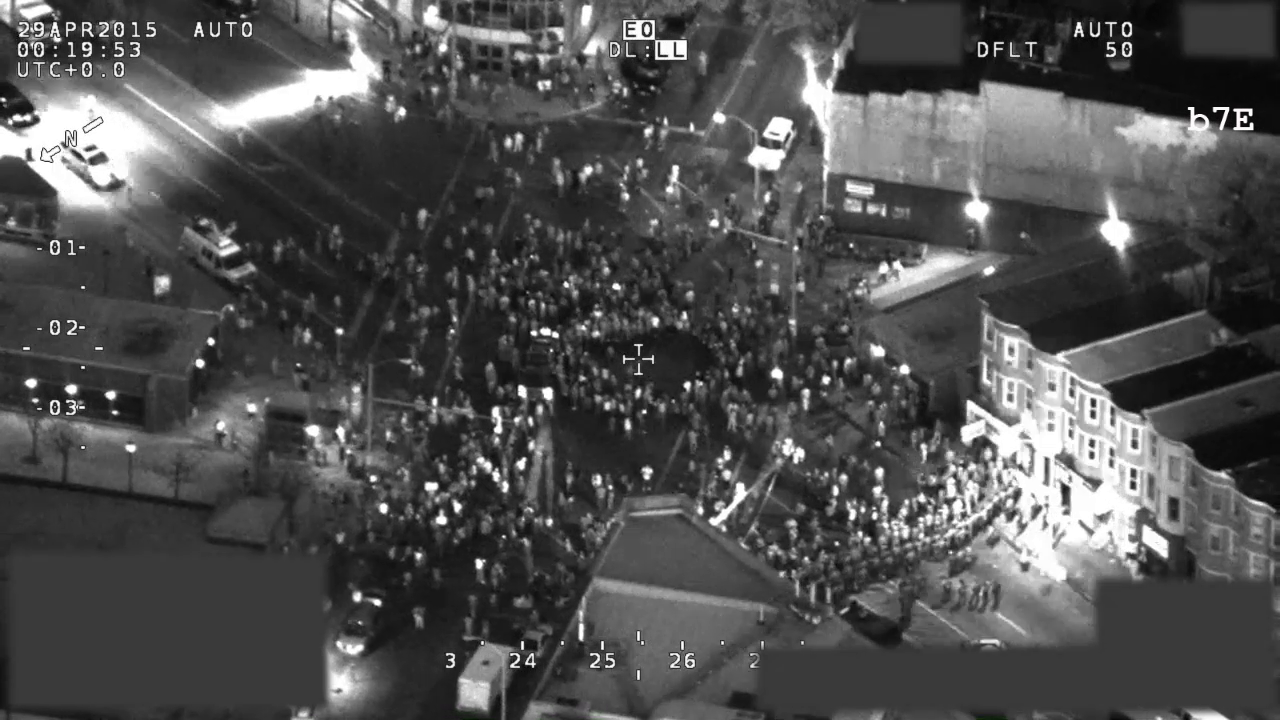vehicle: (175, 211, 263, 293), (445, 642, 522, 718), (53, 134, 130, 196), (334, 583, 398, 655), (741, 110, 803, 177), (519, 325, 568, 406), (625, 39, 679, 101), (518, 620, 560, 665)
